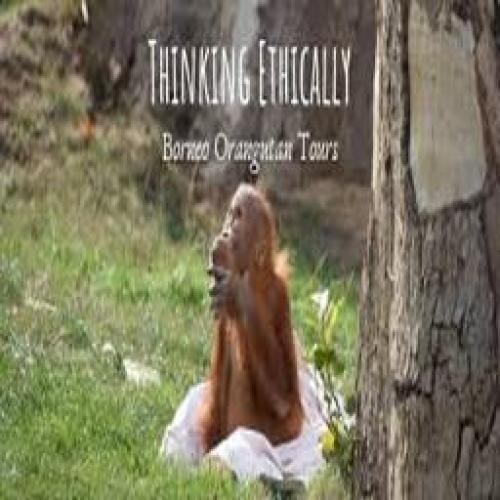orangutan-endangered: (188, 176, 314, 462)
